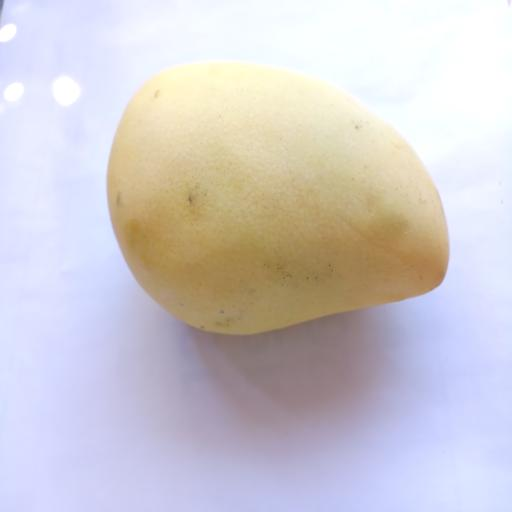mango-ripe: (85, 45, 461, 380)
